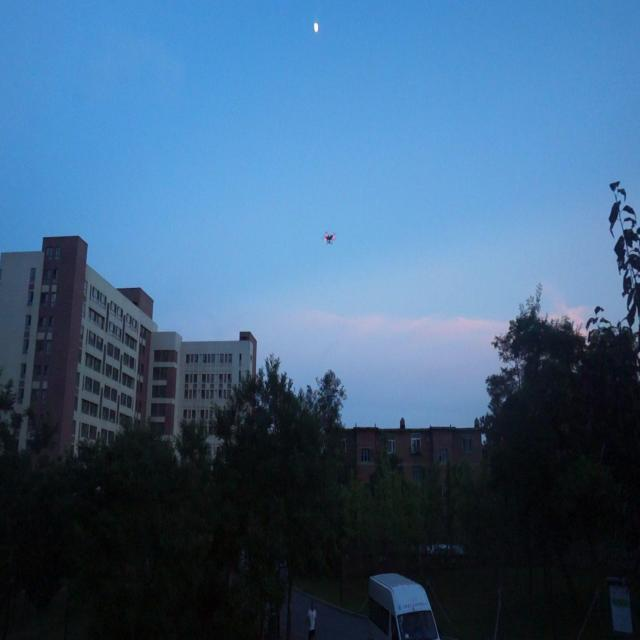UAV: (322, 231, 336, 244)
